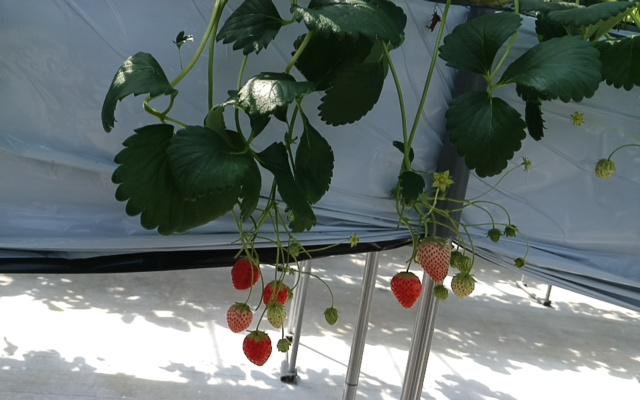GreenStrawberry: (417, 235, 452, 284), (225, 301, 254, 333), (450, 272, 478, 301), (265, 302, 287, 328), (595, 157, 616, 183), (324, 306, 339, 327)
MatureStrawberry: (390, 271, 423, 310), (241, 330, 274, 366), (230, 255, 262, 292), (260, 278, 290, 309)
